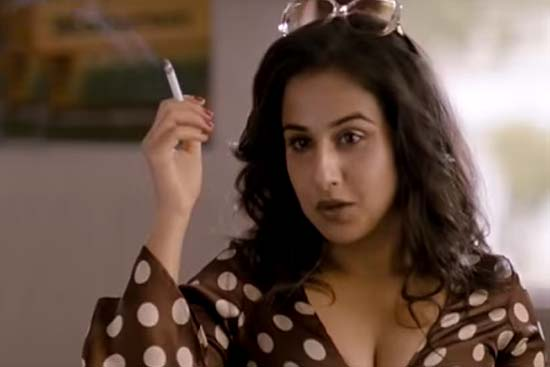cigarette: (143, 50, 206, 120)
